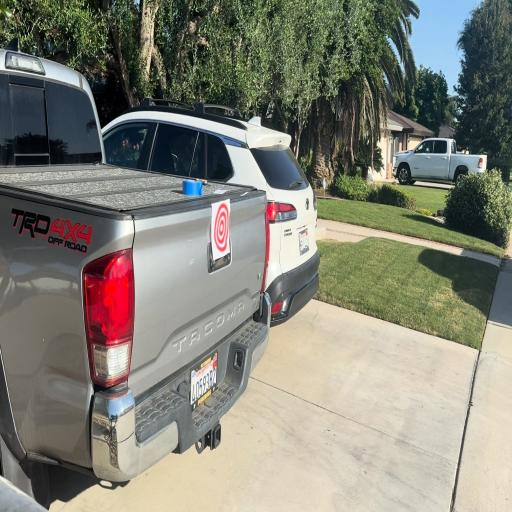bullseye: (212, 199, 230, 260)
